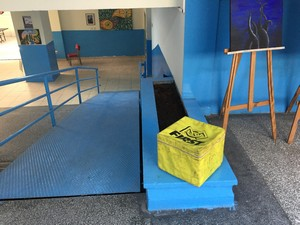cube: (157, 116, 228, 186)
